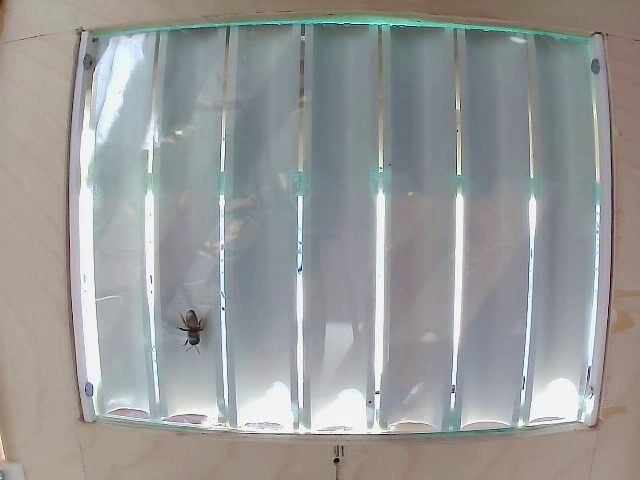bee: (175, 309, 214, 356)
